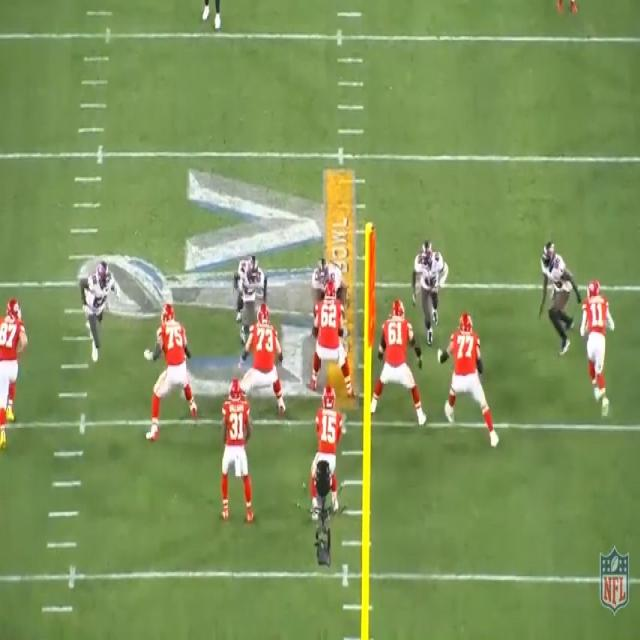players: (141, 280, 192, 442), (378, 295, 431, 439), (445, 303, 499, 440), (0, 289, 38, 460), (536, 231, 581, 368), (217, 378, 256, 526), (578, 277, 617, 423), (305, 276, 350, 396), (306, 380, 344, 521), (240, 305, 284, 416), (233, 242, 275, 350), (413, 226, 446, 349), (84, 256, 120, 348)
